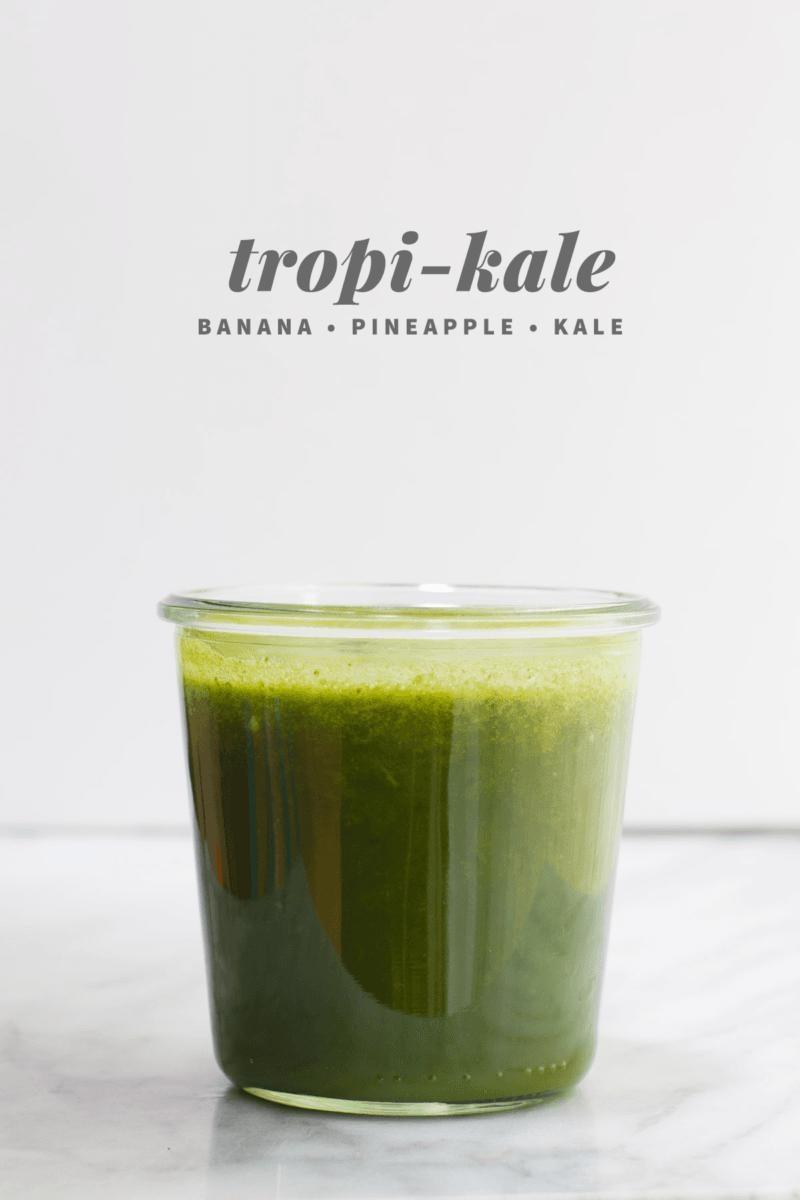glass-normal: (155, 573, 662, 1118)
